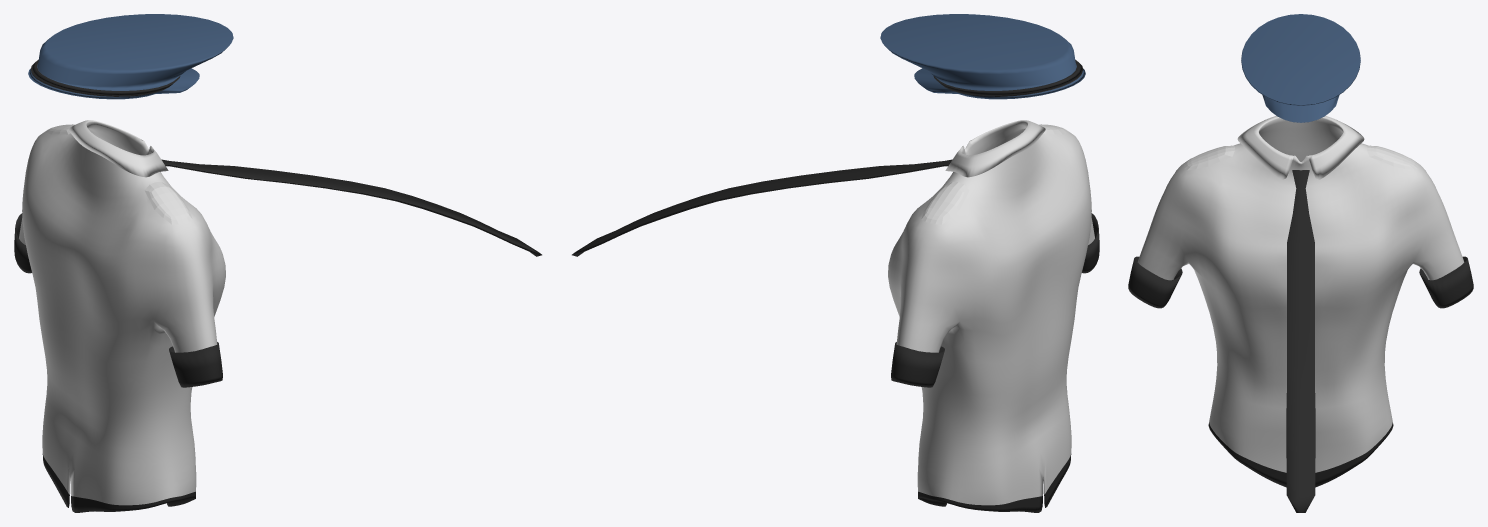
The model's file is Uniform.fbx.
3 views of the same model, side by side, from view 1: azimuth 30°, elevation 25°; view 2: azimuth 150°, elevation 25°; view 3: azimuth 270°, elevation 25° (orthographic). The views are drawn at different scales.
Visible parts, largest first — view 1: Uniform, Cylinder.029, Cube.011; view 2: Uniform, Cylinder.029, Cube.011; view 3: Uniform, Cylinder.029, Cube.011.
Part boxes in pixels (x1,y1,x2,y2): Uniform: (14,120,225,512); Cylinder.029: (28,14,233,99); Cube.011: (161,159,541,256); Uniform: (888,120,1099,512); Cylinder.029: (880,14,1085,99); Cube.011: (572,159,952,256); Uniform: (1128,116,1473,487); Cylinder.029: (1241,14,1360,122); Cube.011: (1286,170,1315,512).
Size of the model in its own units: 528 by 472 by 347.
